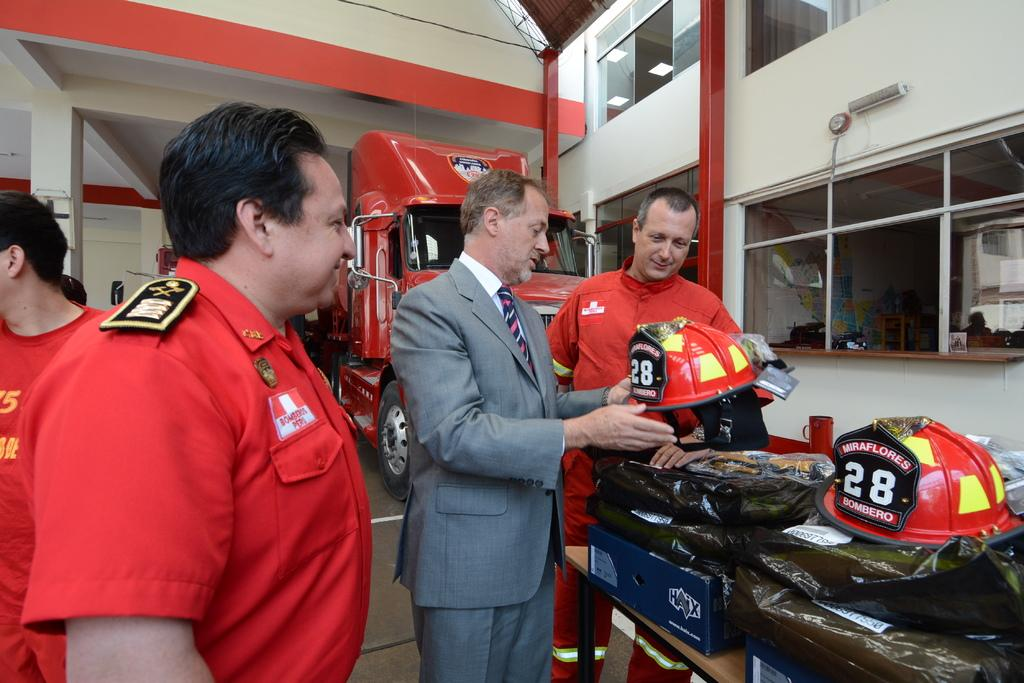helmet: (813, 416, 1024, 552), (621, 320, 796, 412)
nohelmet: (156, 98, 360, 317), (456, 165, 552, 288), (0, 187, 71, 337), (629, 184, 702, 284)
